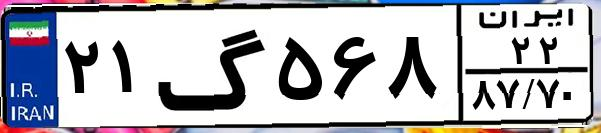0: (560, 70, 590, 125)
1: (110, 28, 156, 98)
2: (57, 26, 110, 100), (537, 27, 568, 80), (508, 27, 537, 80)
5: (270, 28, 330, 110)
6: (330, 28, 385, 110)
7: (495, 70, 520, 125), (535, 70, 560, 125)
8: (385, 28, 445, 110), (470, 70, 495, 125)
گ: (156, 12, 270, 120)
